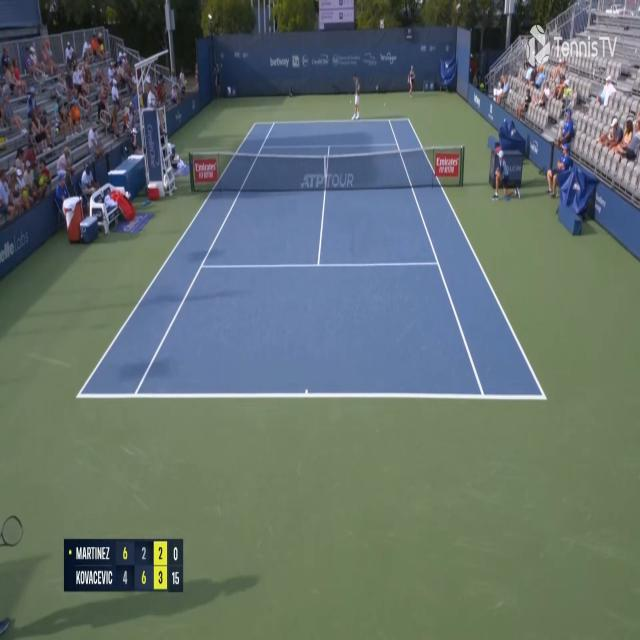tennis-player: (0, 504, 24, 637), (350, 70, 362, 123)
